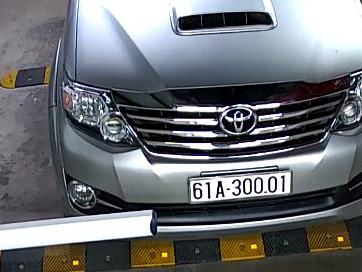number: (188, 169, 293, 202)
